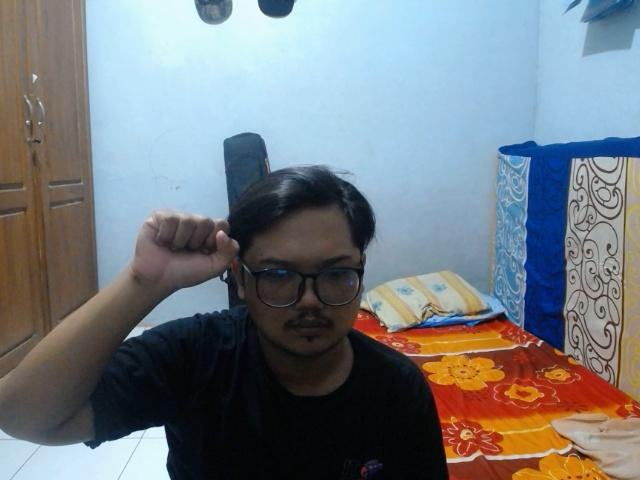Grab: (131, 207, 244, 296)
